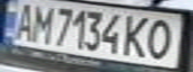1: (69, 7, 87, 50)
3: (84, 8, 106, 52)
4: (100, 10, 127, 55)
7: (51, 4, 75, 47)
A: (9, 0, 39, 42)
K: (121, 12, 154, 59)
M: (27, 1, 57, 44)
O: (142, 16, 184, 61)
